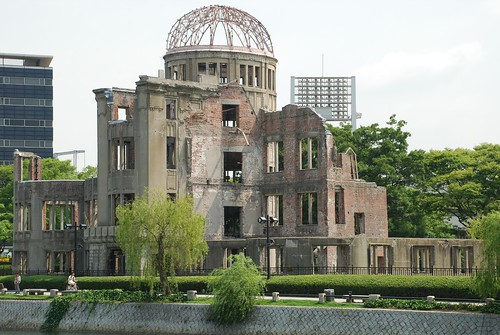building: (15, 1, 466, 271), (1, 53, 57, 163), (293, 69, 359, 126)
vegetation: (357, 134, 500, 234)
